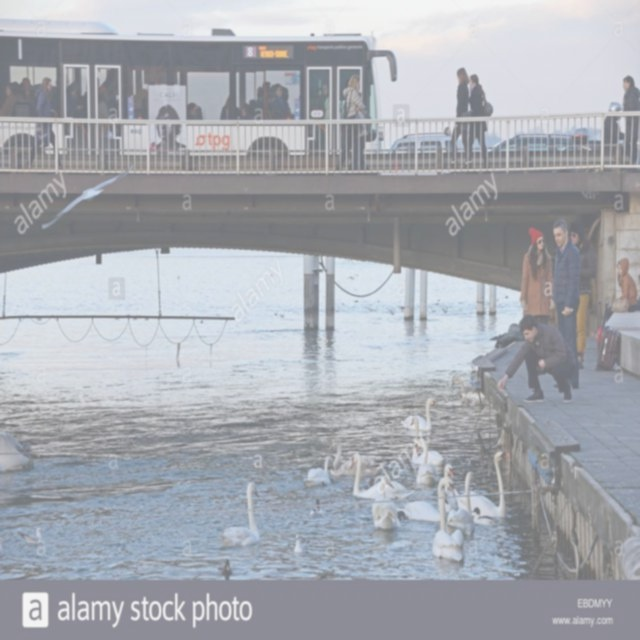pessoa: (496, 312, 578, 404), (551, 217, 583, 390), (54, 72, 148, 121), (186, 80, 298, 120), (22, 75, 66, 174), (569, 220, 597, 370), (332, 74, 372, 176), (519, 227, 557, 326), (446, 66, 474, 170), (466, 72, 494, 174), (605, 257, 638, 323), (620, 73, 640, 173), (0, 73, 36, 119), (150, 104, 185, 150), (598, 100, 626, 146), (357, 91, 373, 156), (312, 78, 329, 120), (636, 274, 640, 312), (442, 125, 452, 138), (348, 159, 358, 171)
